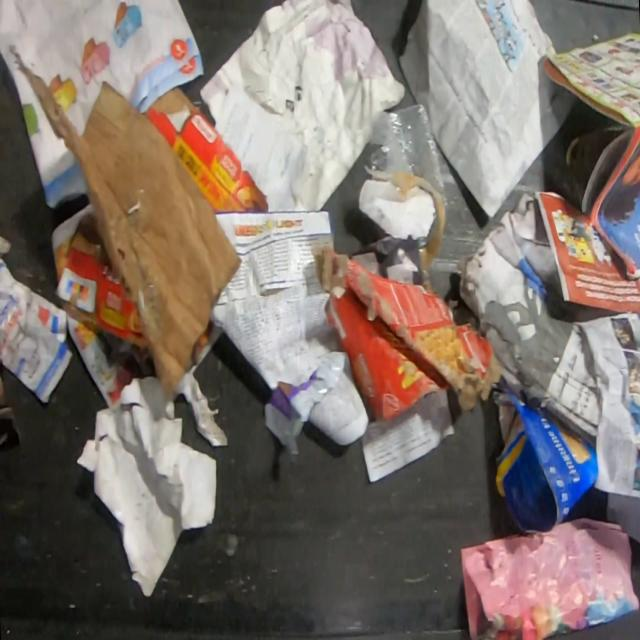cardboard: (12, 52, 269, 399), (312, 242, 505, 425), (492, 388, 600, 532)
soft_plastic: (360, 100, 448, 271), (262, 349, 353, 455)
